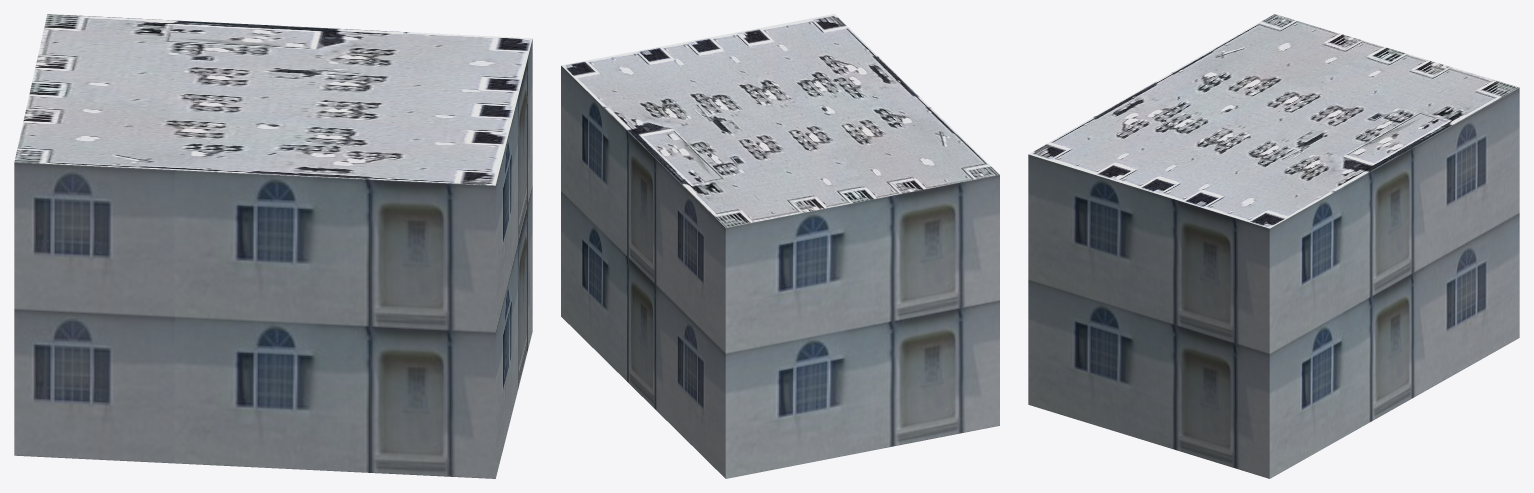
Rendered from ResTex__3230.fbx.
The picture shows the model from 3 angles, left to right: view 1: azimuth 30°, elevation 25°; view 2: azimuth 150°, elevation 25°; view 3: azimuth 270°, elevation 25°; orthographic projection. The views are drawn at different scales.
Visible parts, largest first — view 1: CityEngineMaterial_17_m, CityEngineMaterial_2_m; view 2: CityEngineMaterial_17_m, CityEngineMaterial_2_m; view 3: CityEngineMaterial_17_m, CityEngineMaterial_2_m.
Boxes of the visible parts, x1,y1,x2,y2 form: CityEngineMaterial_17_m: [14, 39, 532, 478]; CityEngineMaterial_2_m: [14, 14, 532, 185]; CityEngineMaterial_17_m: [561, 66, 999, 478]; CityEngineMaterial_2_m: [561, 14, 999, 227]; CityEngineMaterial_17_m: [1028, 87, 1519, 478]; CityEngineMaterial_2_m: [1028, 14, 1519, 228].
Bounding box in the file's own units: 11.03 × 6 × 10.67.
2 materials, 2 textured.
